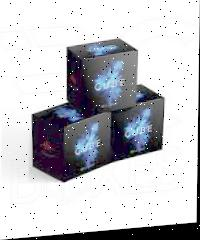cube: (30, 100, 109, 187), (65, 40, 140, 114)
